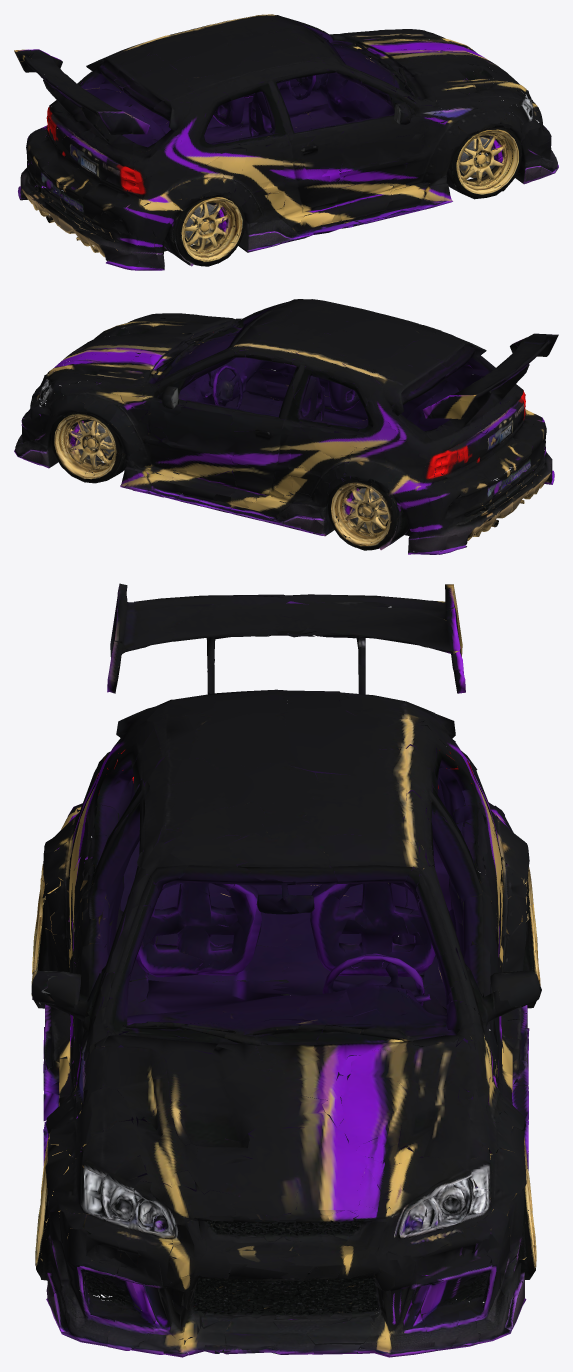
The model's file is car.glb.
3 views of the same model, one above another, from view 1: azimuth 30°, elevation 25°; view 2: azimuth 150°, elevation 25°; view 3: azimuth 270°, elevation 25° (orthographic). The views are drawn at different scales.
Visible parts, largest first — view 1: Mesh_0; view 2: Mesh_0; view 3: Mesh_0.
Boxes of the visible parts, left/top/right/bottom form: Mesh_0: left=14, top=14, right=558, bottom=270; Mesh_0: left=14, top=299, right=558, bottom=554; Mesh_0: left=31, top=583, right=541, bottom=1357.
Size of the model in its own units: 2.7 by 0.9124 by 1.29.
1 material, 1 textured.
